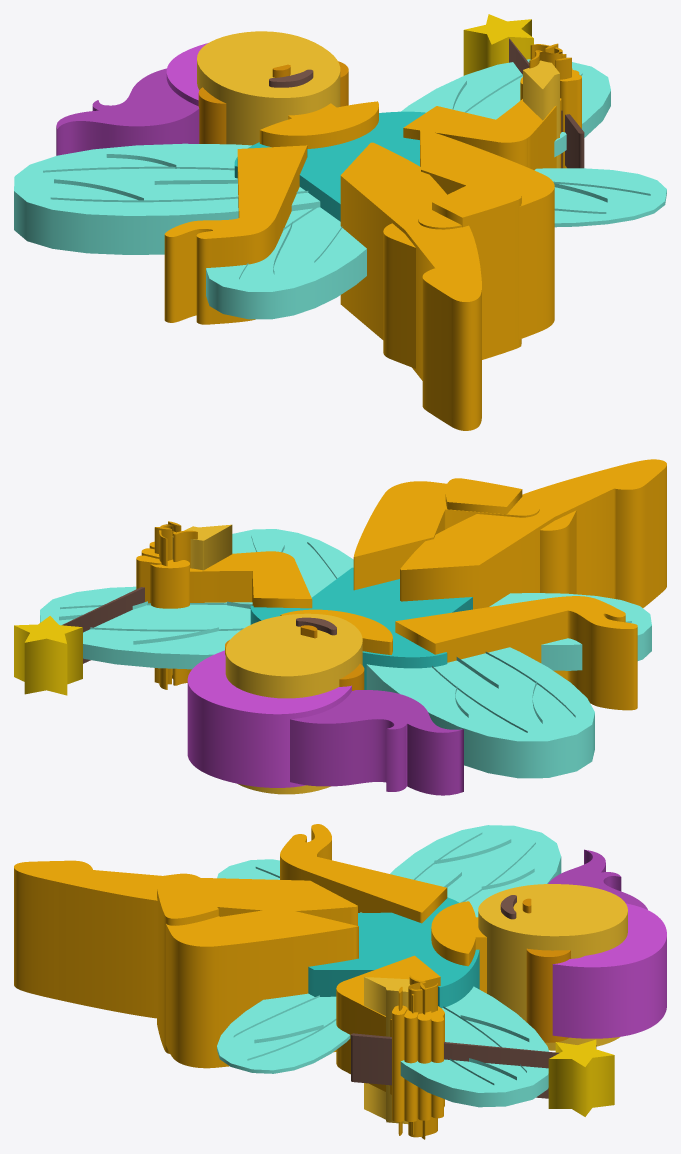
Rendered from emoji_u1f9da_200d_2640.glb.
3 views of the same model, one above another, from view 1: azimuth 30°, elevation 25°; view 2: azimuth 150°, elevation 25°; view 3: azimuth 270°, elevation 25° (orthographic). The views are drawn at different scales.
Visible parts, largest first — view 1: emoji_u1f9da_200d_2640; view 2: emoji_u1f9da_200d_2640; view 3: emoji_u1f9da_200d_2640.
Part boxes in pixels (x1,y1,x2,y2): emoji_u1f9da_200d_2640: [14, 14, 666, 430]; emoji_u1f9da_200d_2640: [14, 459, 666, 795]; emoji_u1f9da_200d_2640: [14, 824, 666, 1139].
Size of the model in its own units: 0.0309 by 0.0084 by 0.0331.
